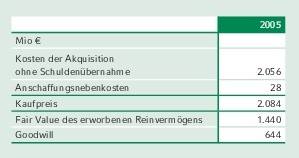table: (0, 0, 299, 158)
